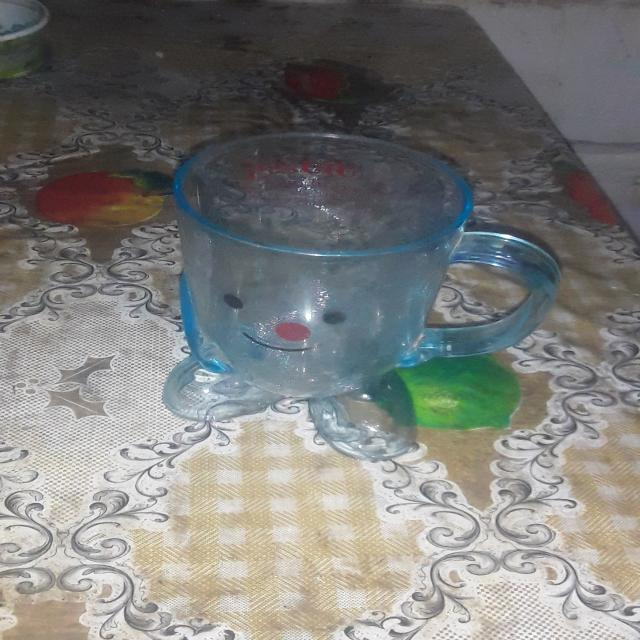Glass: (155, 127, 564, 463)
